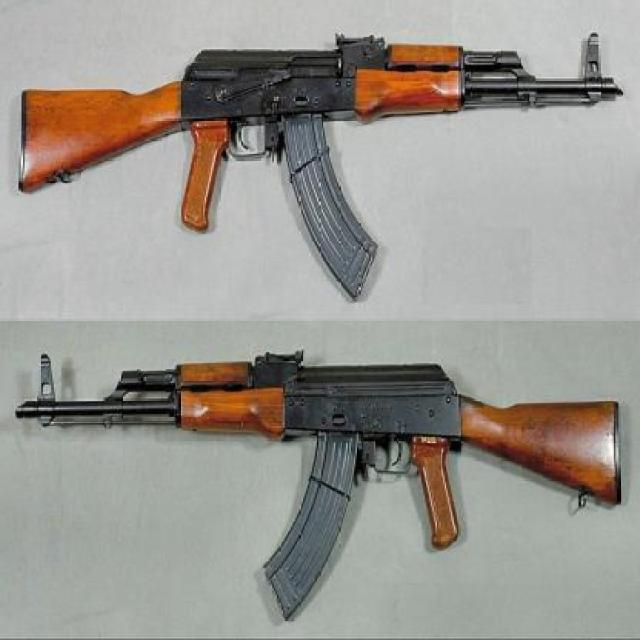weapon: (13, 343, 622, 629), (18, 23, 624, 302)
